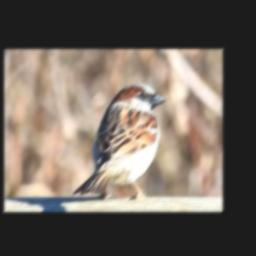Sparrow: (73, 83, 167, 199)
